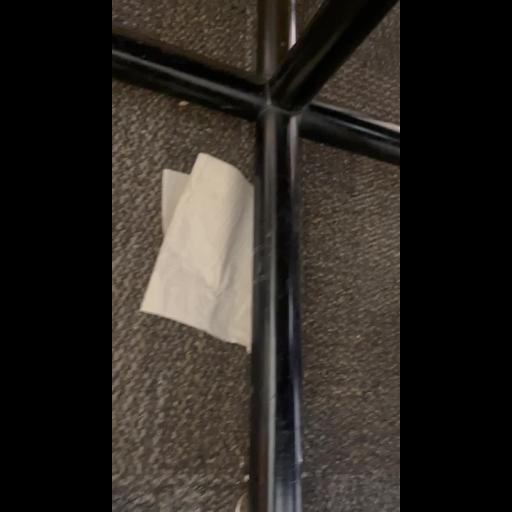napkin: (138, 150, 308, 392)
